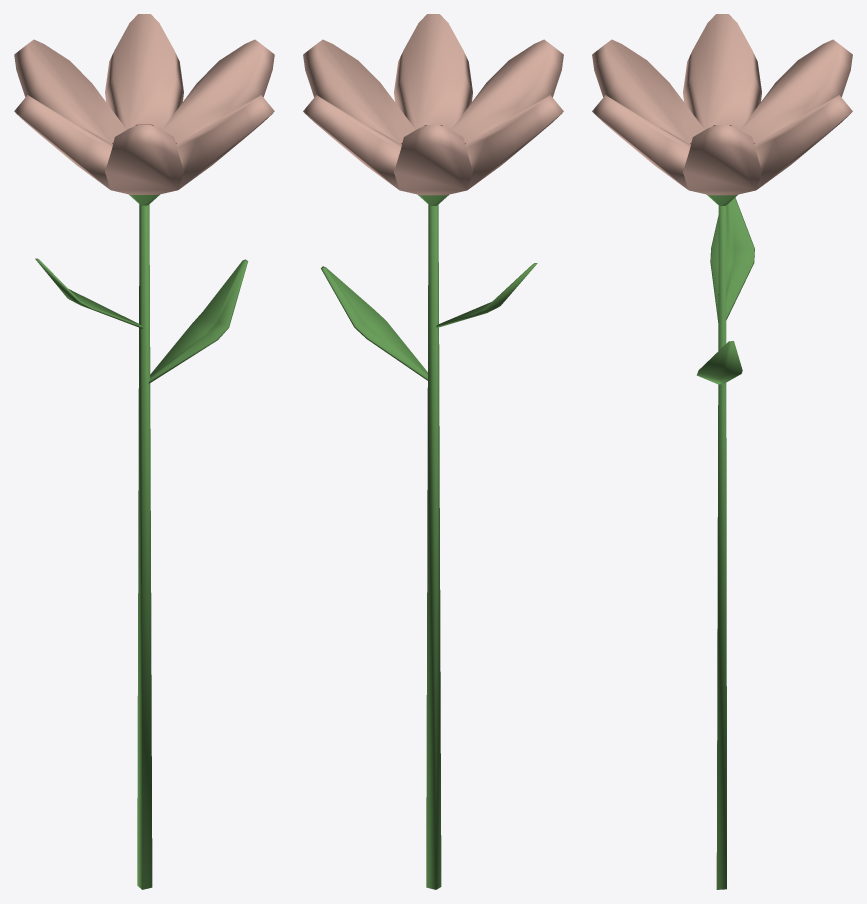
Rendered from prop_flower_2.fbx.
3 renders of one model, left to right at view 1: azimuth 30°, elevation 25°; view 2: azimuth 150°, elevation 25°; view 3: azimuth 270°, elevation 25°, orthographic.
Visible parts, largest first — view 1: Flower_01; view 2: Flower_01; view 3: Flower_01.
Boxes of the visible parts, <box> form: Flower_01: <box>14,14,274,889</box>; Flower_01: <box>303,14,563,889</box>; Flower_01: <box>592,14,852,889</box>.
Size of the model in its own units: 10.98 by 33.83 by 9.78.
